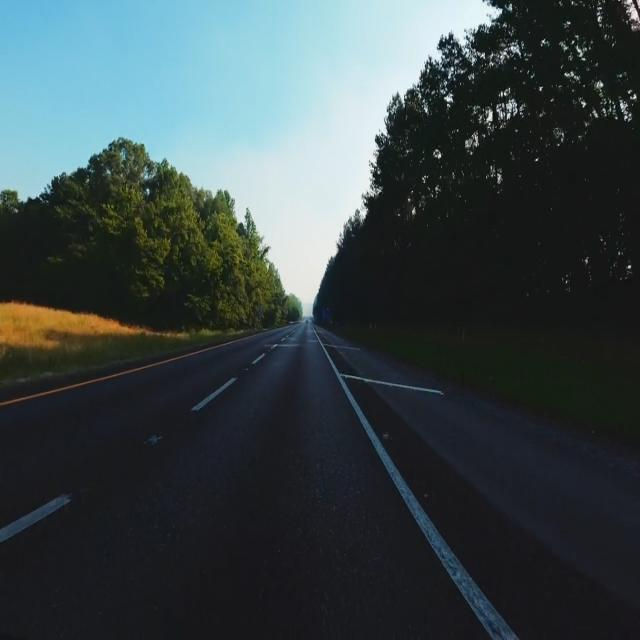asphalt: (0, 323, 640, 639)
